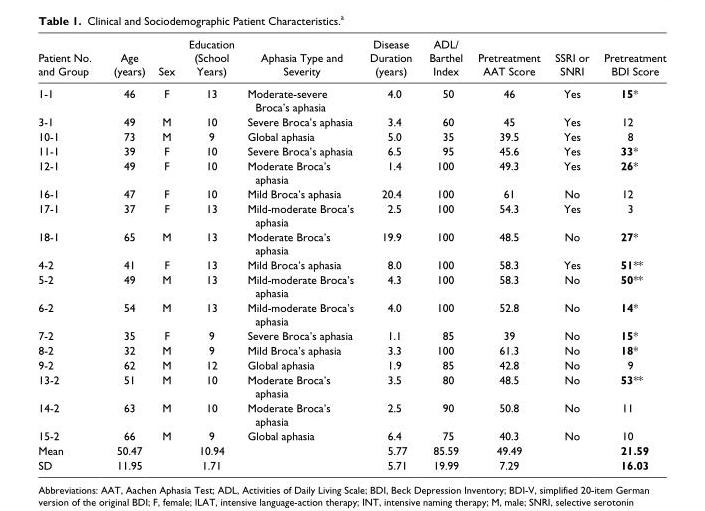table: (37, 37, 665, 471)
table column: (240, 37, 361, 471), (469, 37, 546, 471), (595, 37, 665, 471), (37, 37, 101, 471), (181, 37, 240, 471), (361, 37, 419, 471), (101, 37, 151, 471), (419, 37, 469, 471), (546, 37, 595, 471), (151, 37, 181, 471)
table column header: (37, 37, 665, 81)
table row: (37, 37, 665, 81), (37, 81, 665, 114), (37, 371, 665, 400), (37, 158, 665, 186), (37, 200, 665, 228), (37, 228, 665, 256), (37, 271, 665, 299), (37, 299, 665, 327), (37, 400, 665, 428), (37, 128, 665, 143), (37, 143, 665, 158), (37, 256, 665, 271), (37, 327, 665, 342), (37, 342, 665, 357), (37, 442, 665, 457), (37, 114, 665, 128), (37, 186, 665, 200), (37, 357, 665, 371), (37, 428, 665, 442), (37, 457, 665, 471)
